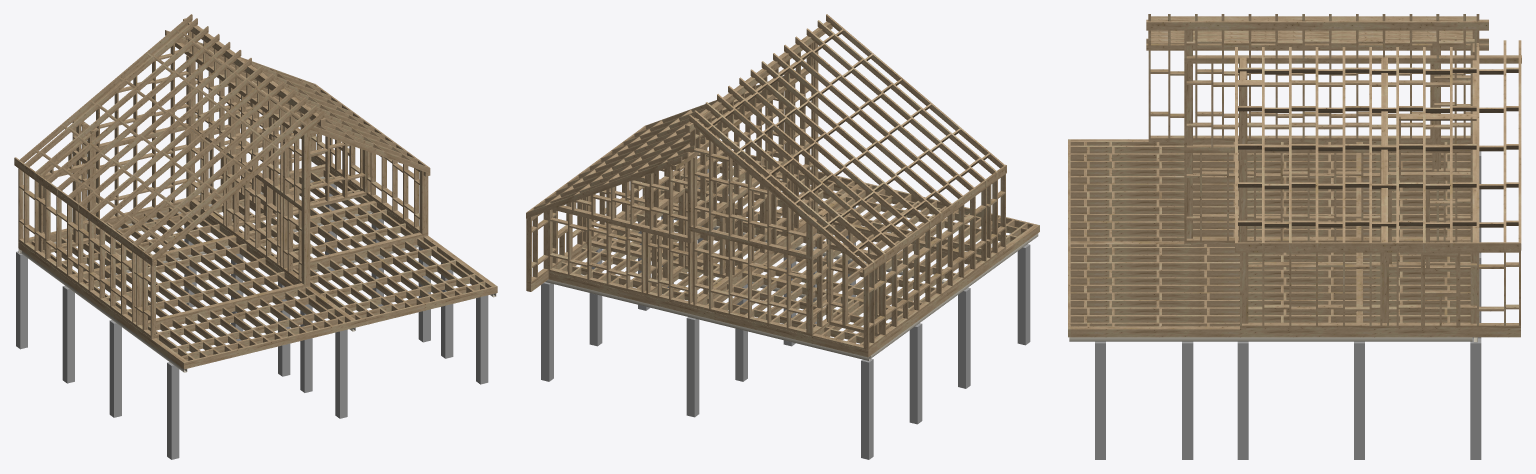
Rendered from structura.glb.
3 renders of one model, left to right at view 1: azimuth 30°, elevation 25°; view 2: azimuth 150°, elevation 25°; view 3: azimuth 270°, elevation 25°, orthographic. The views are drawn at different scales.
Visible parts, largest first — view 1: G-Object.543, G-Object.131, G-Object.540, G-Object.122, G-Object.124, G-Object.121, G-Object.125, G-Object.126, G-Object.127, G-Object.120, G-Object.128, G-Object.123 (+50 smaller); view 2: G-Object.132, G-Object.540, G-Object.104, G-Object.125, G-Object.124, G-Object.129, G-Object.130, G-Object.120, G-Object.123, G-Object.128, G-Object.121, G-Object.122 (+38 smaller); view 3: G-Object.541, G-Object.107, G-Object.535, G-Object.537, G-Object.536, G-Object.516, G-Object.525, G-Object.534, G-Object.539, G-Object.524, G-Object.526, G-Object.519 (+59 smaller).
Part boxes in pixels (bbox=[...]): G-Object.543: bbox=[183, 285, 497, 369]; G-Object.131: bbox=[150, 111, 324, 263]; G-Object.540: bbox=[18, 242, 186, 368]; G-Object.122: bbox=[56, 42, 230, 194]; G-Object.124: bbox=[77, 58, 251, 210]; G-Object.121: bbox=[45, 34, 219, 186]; G-Object.125: bbox=[88, 65, 262, 218]; G-Object.126: bbox=[99, 73, 273, 226]; G-Object.127: bbox=[110, 81, 284, 234]; G-Object.120: bbox=[23, 18, 197, 170]; G-Object.128: bbox=[121, 89, 295, 242]; G-Object.123: bbox=[67, 50, 241, 202]; G-Object.132: bbox=[689, 114, 869, 272]; G-Object.540: bbox=[863, 225, 1038, 357]; G-Object.104: bbox=[705, 102, 886, 260]; G-Object.125: bbox=[761, 61, 942, 219]; G-Object.124: bbox=[750, 69, 930, 227]; G-Object.129: bbox=[806, 28, 986, 186]; G-Object.130: bbox=[817, 20, 997, 178]; G-Object.120: bbox=[694, 110, 874, 268]; G-Object.123: bbox=[739, 77, 919, 235]; G-Object.128: bbox=[795, 36, 975, 194]; G-Object.121: bbox=[717, 94, 897, 251]; G-Object.122: bbox=[728, 85, 908, 243]; G-Object.541: bbox=[1070, 326, 1520, 337]; G-Object.107: bbox=[1146, 19, 1488, 30]; G-Object.535: bbox=[1070, 284, 1470, 292]; G-Object.537: bbox=[1070, 269, 1470, 277]; G-Object.536: bbox=[1070, 277, 1470, 284]; G-Object.516: bbox=[1070, 315, 1470, 322]; G-Object.525: bbox=[1070, 198, 1470, 206]; G-Object.534: bbox=[1070, 292, 1470, 299]; G-Object.539: bbox=[1070, 254, 1470, 261]; G-Object.524: bbox=[1070, 191, 1470, 198]; G-Object.526: bbox=[1070, 206, 1470, 213]; G-Object.519: bbox=[1070, 153, 1470, 160].
Size of the model in its own units: 10.15 by 8.88 by 10.15.
Materials: 4 (1 with a texture image).
